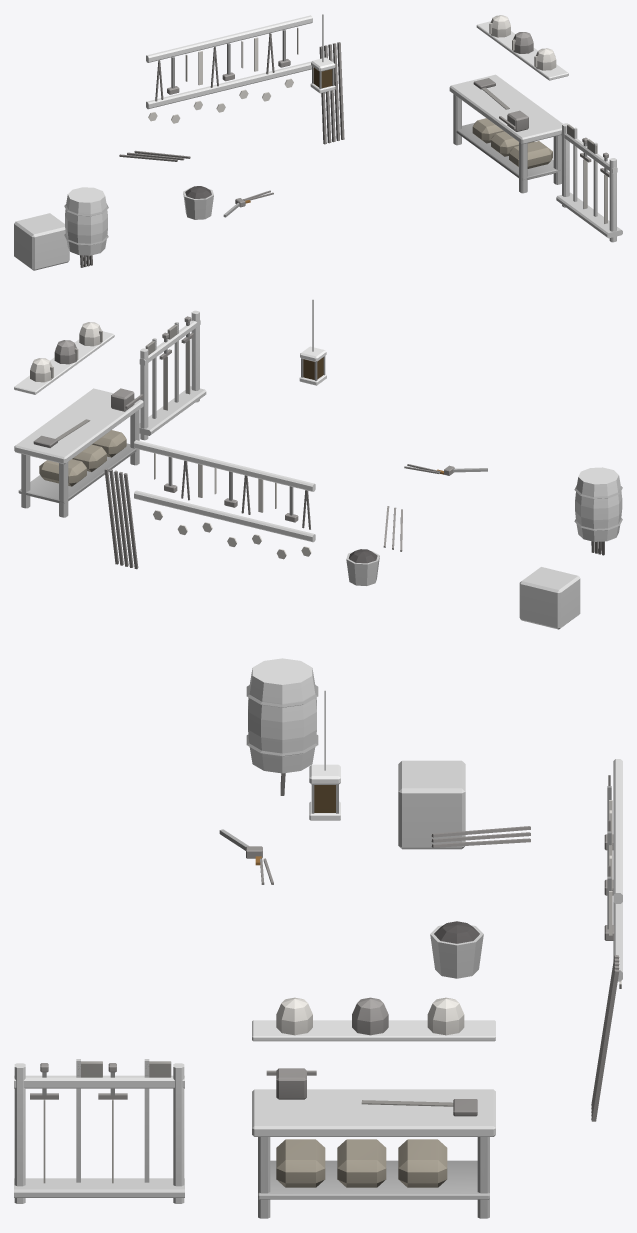
File: forge_interior.glb
3 views of the same model, one above another, from view 1: azimuth 30°, elevation 25°; view 2: azimuth 150°, elevation 25°; view 3: azimuth 270°, elevation 25° (orthographic). The views are drawn at different scales.
Parts seen in each view (by area): view 1: axe_haft; view 2: axe_haft; view 3: axe_haft.
Boxes of the visible parts, left/top/right/bottom form: axe_haft: left=14, top=14, right=622, bottom=270; axe_haft: left=14, top=299, right=622, bottom=629; axe_haft: left=14, top=658, right=622, bottom=1218.
Size of the model in its own units: 7.81 by 3.15 by 4.99.
